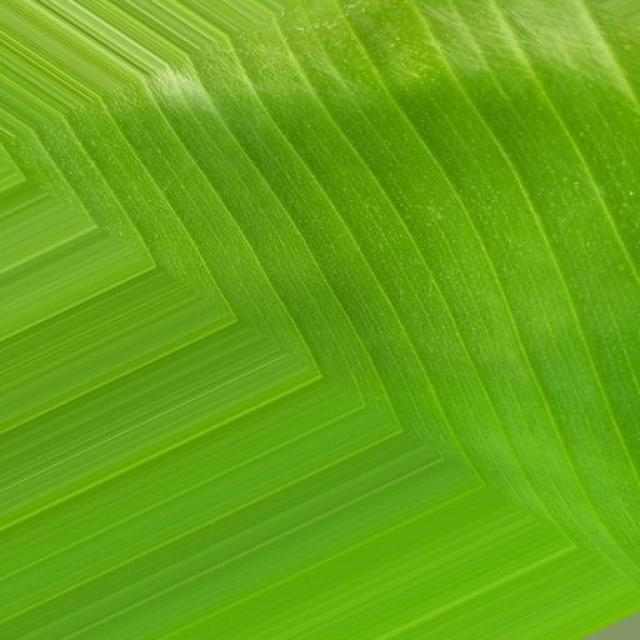Black_leaf_spot: (25, 26, 593, 551)
